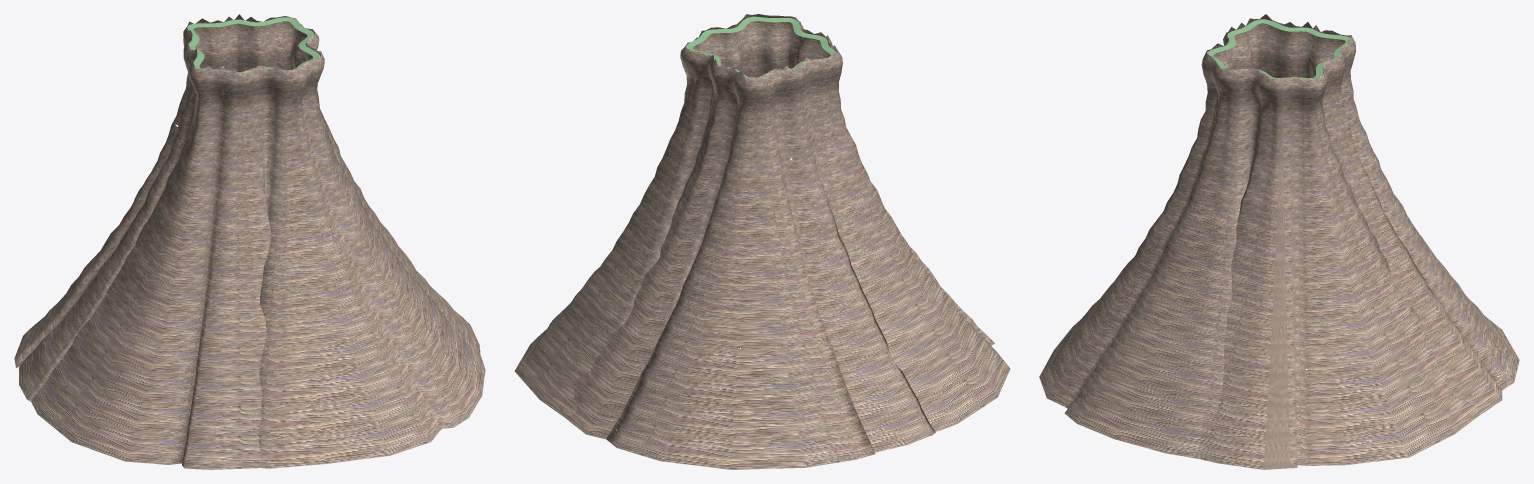
File: CliffWall_stack_03.glb
3 views of the same model, side by side, from view 1: azimuth 30°, elevation 25°; view 2: azimuth 150°, elevation 25°; view 3: azimuth 270°, elevation 25° (orthographic).
Visible parts, largest first — view 1: CliffWall_stack_03-rock0, CliffWall_stack_03-lip0; view 2: CliffWall_stack_03-rock0, CliffWall_stack_03-lip0; view 3: CliffWall_stack_03-rock0, CliffWall_stack_03-lip0.
Boxes of the visible parts, left/top/right/bottom form: CliffWall_stack_03-rock0: left=14, top=14, right=485, bottom=469; CliffWall_stack_03-lip0: left=187, top=17, right=319, bottom=73; CliffWall_stack_03-rock0: left=514, top=14, right=1010, bottom=469; CliffWall_stack_03-lip0: left=685, top=16, right=837, bottom=79; CliffWall_stack_03-rock0: left=1039, top=14, right=1519, bottom=469; CliffWall_stack_03-lip0: left=1207, top=19, right=1352, bottom=79.
Bounding box in the file's own units: 593 × 446 × 599.
3 materials, 1 textured.
